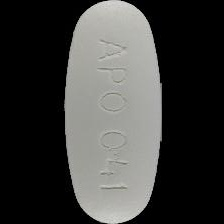63187-736: (0, 0, 224, 224)
